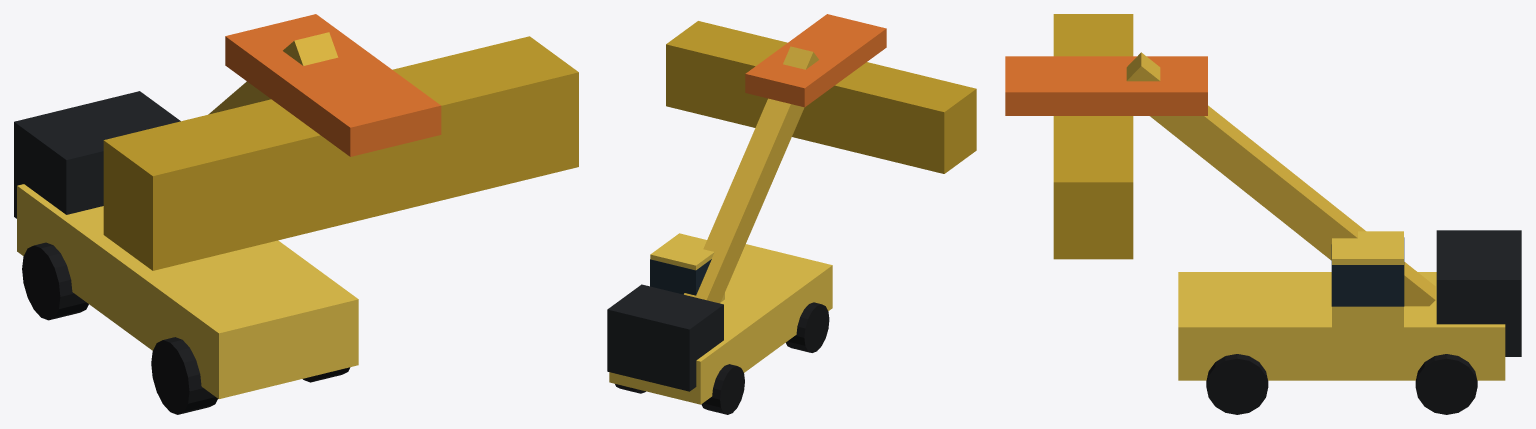
Rendered from reach_stacker.glb.
The picture shows the model from 3 angles, left to right: view 1: azimuth 30°, elevation 25°; view 2: azimuth 150°, elevation 25°; view 3: azimuth 270°, elevation 25°; orthographic projection. The views are drawn at different scales.
Parts seen in each view (by area): view 1: rs; view 2: rs; view 3: rs.
Boxes of the visible parts, box(x1,y1,x2,y2) form: rs: box(14, 14, 578, 414); rs: box(607, 14, 976, 414); rs: box(1005, 14, 1521, 414).
Bounding box in the file's own units: 12.19 × 10.91 × 15.8.
